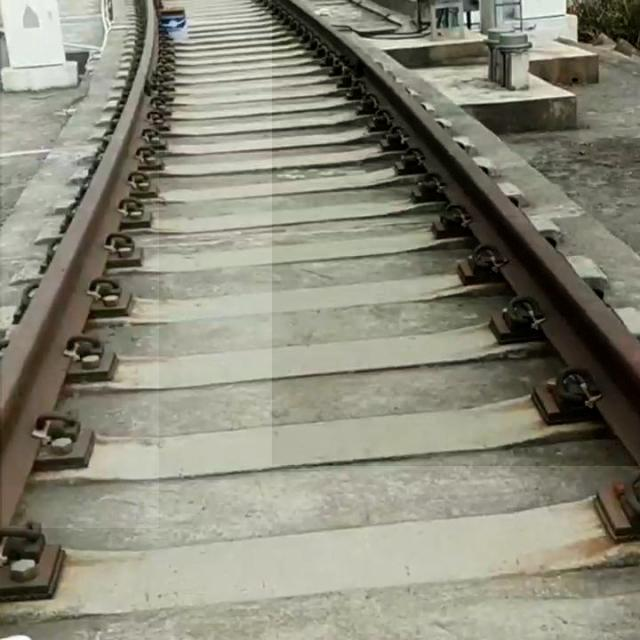rail: (273, 1, 640, 467), (3, 1, 160, 529)
